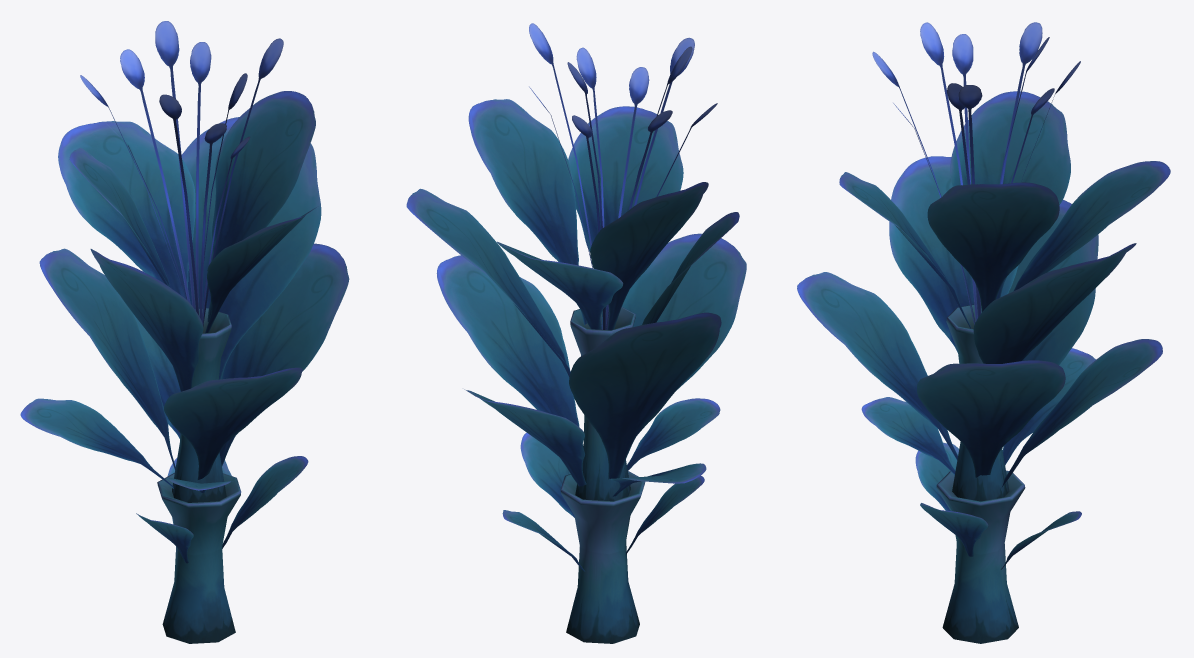
Rendered from plant1.fbx.
3 views of the same model, side by side, from view 1: azimuth 30°, elevation 25°; view 2: azimuth 150°, elevation 25°; view 3: azimuth 270°, elevation 25° (orthographic).
Visible parts, largest first — view 1: plant1; view 2: plant1; view 3: plant1.
Part boxes in pixels (left/top/right/bottom): plant1: left=20, top=21, right=349, bottom=643; plant1: left=406, top=23, right=746, bottom=643; plant1: left=797, top=22, right=1170, bottom=643.
Size of the model in its own units: 134 by 244 by 145.
